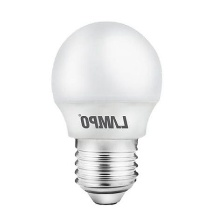light_bulb: (43, 14, 167, 208)
